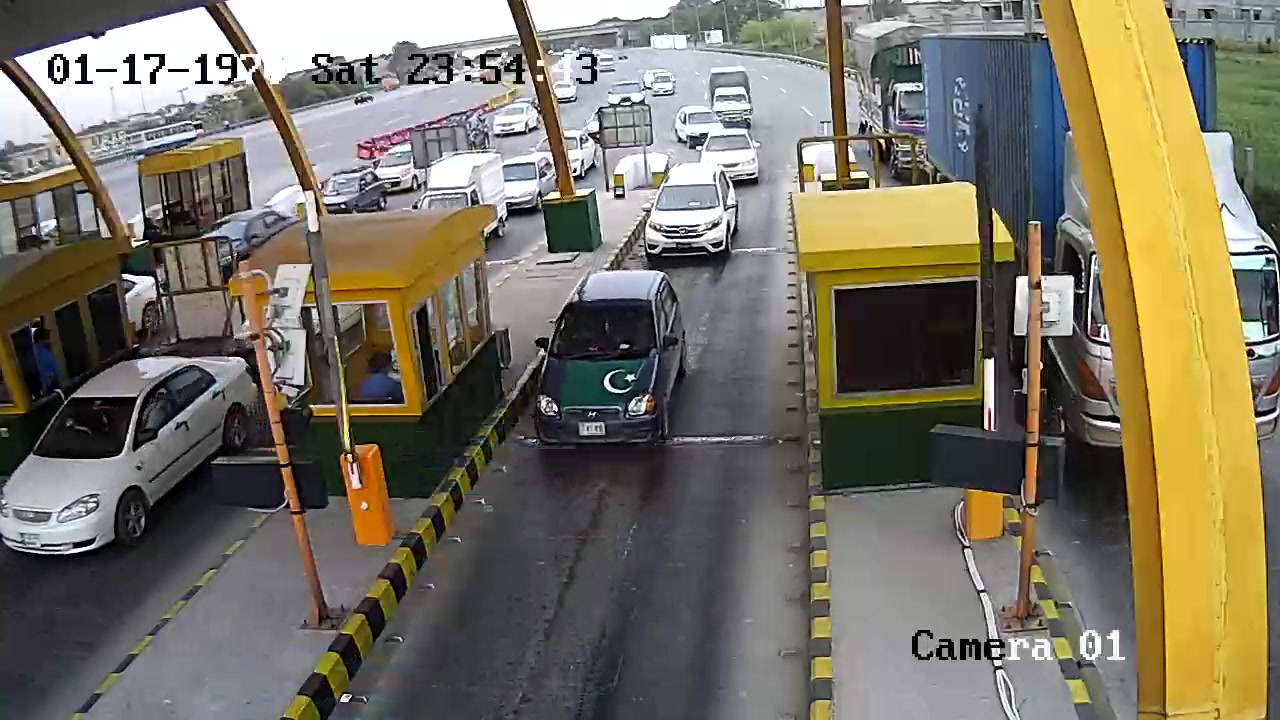F1: (528, 268, 696, 448)
